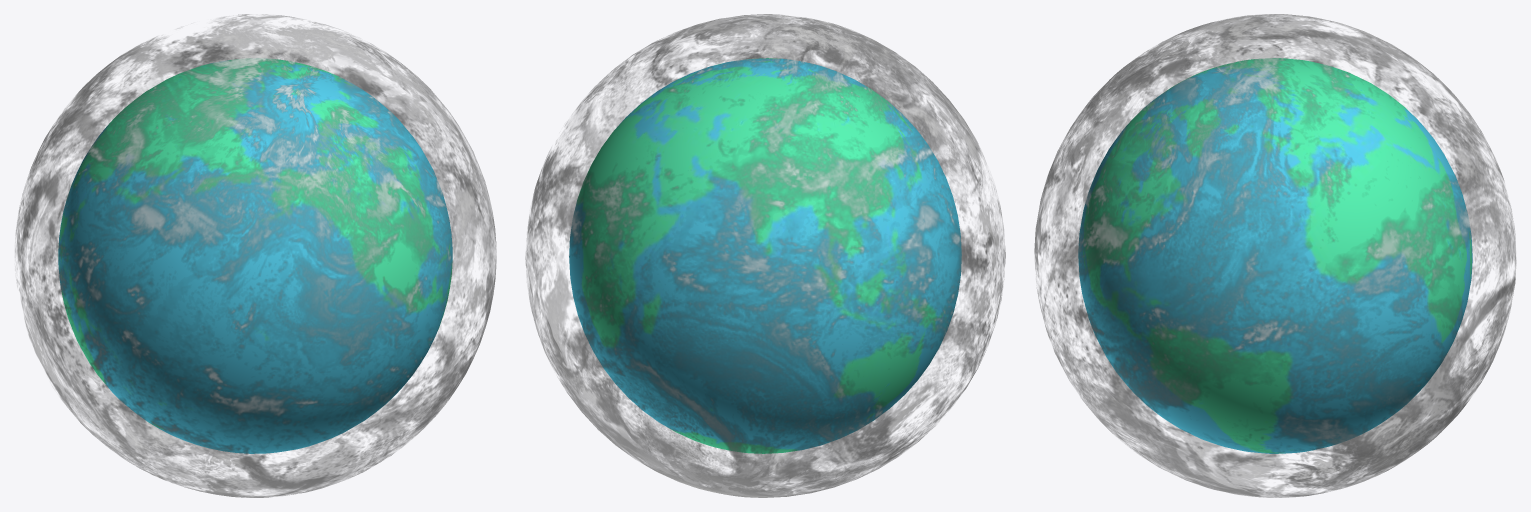
File: world-transformed.glb
The picture shows the model from 3 angles, left to right: view 1: azimuth 30°, elevation 25°; view 2: azimuth 150°, elevation 25°; view 3: azimuth 270°, elevation 25°; orthographic projection.
Visible parts, largest first — view 1: Earth, Clouds; view 2: Earth, Clouds; view 3: Earth, Clouds.
Boxes of the visible parts, left/top/right/bottom form: Earth: left=58, top=58, right=452, bottom=453; Clouds: left=15, top=14, right=496, bottom=497; Earth: left=569, top=58, right=961, bottom=453; Clouds: left=525, top=14, right=1005, bottom=497; Earth: left=1078, top=58, right=1472, bottom=453; Clouds: left=1034, top=14, right=1516, bottom=497.
Bounding box in the file's own units: 3.25 × 3.27 × 3.25.
2 materials, 2 textured.
